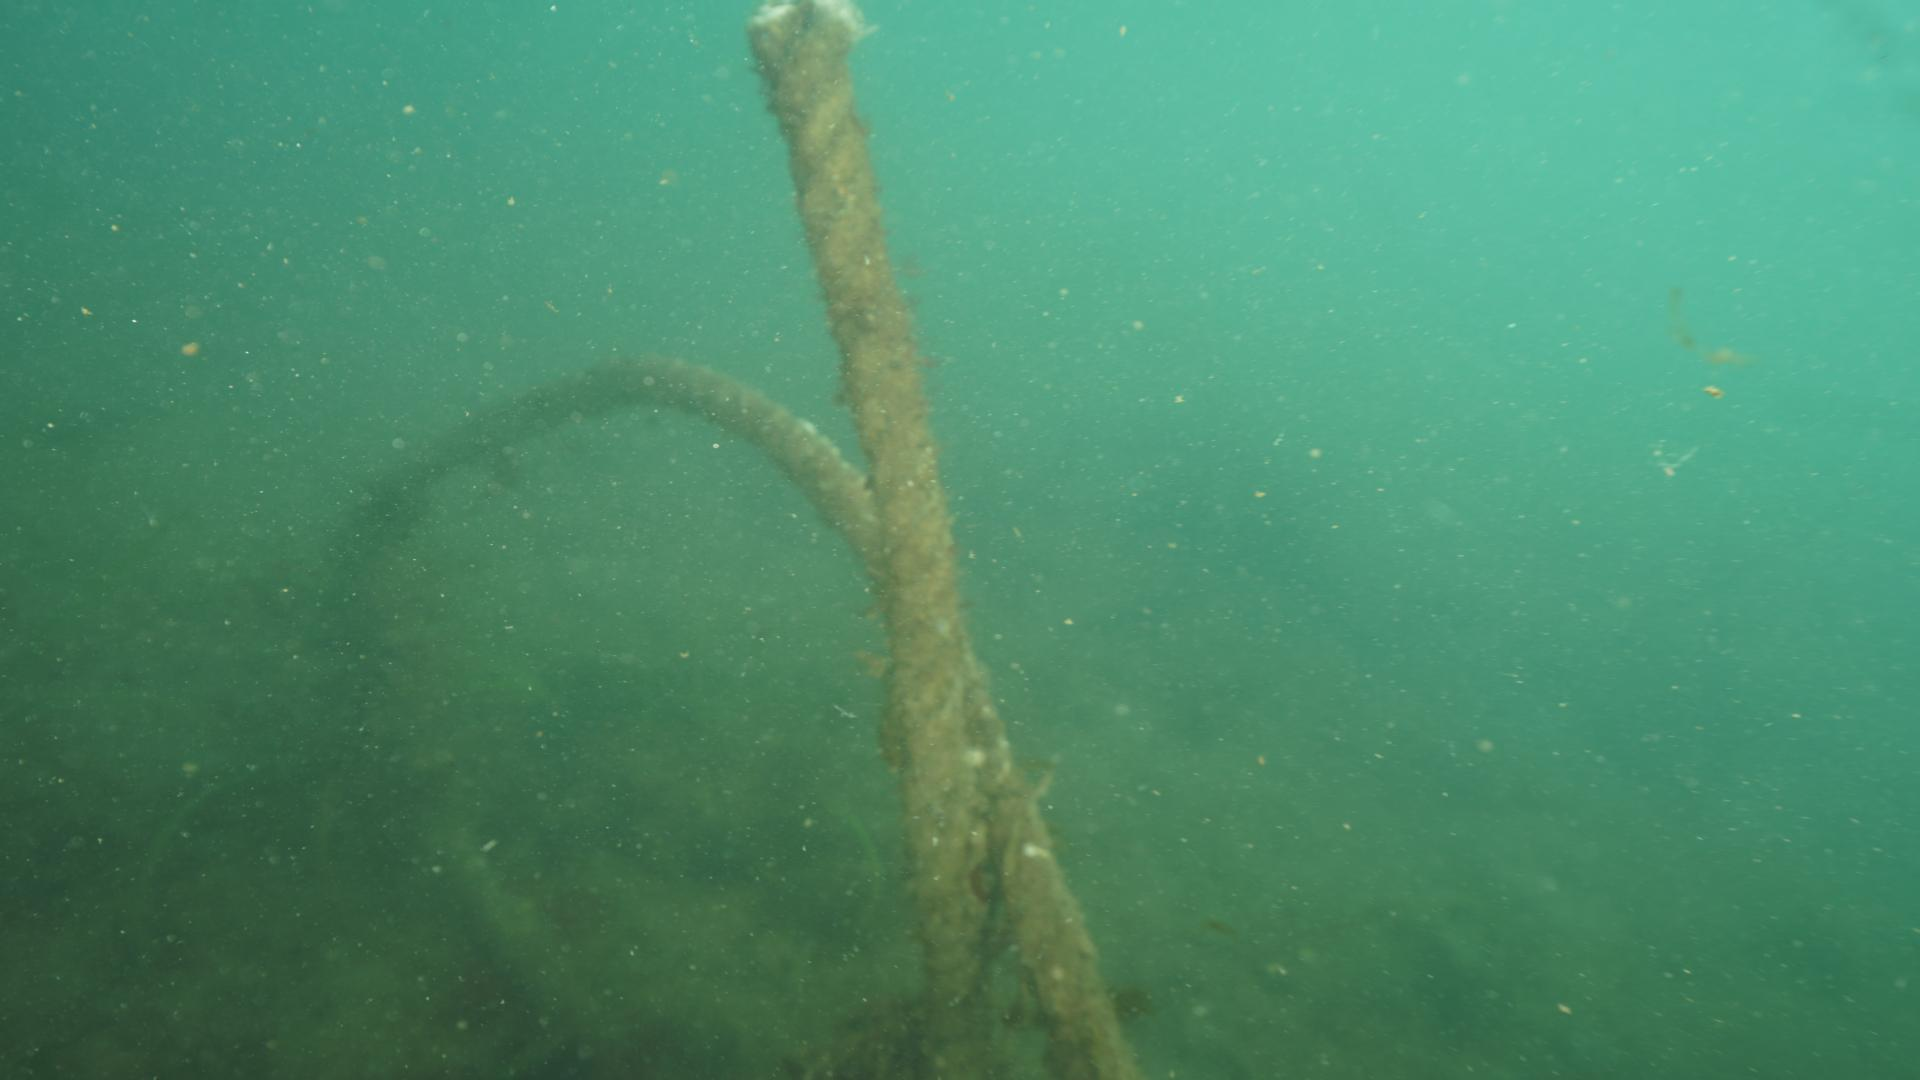rope: (392, 0, 1145, 1080)
